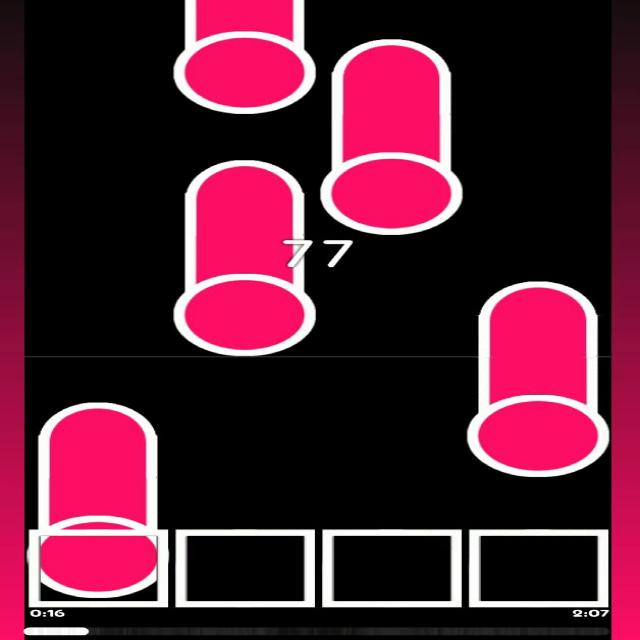end_hold: (41, 392, 160, 444), (476, 274, 606, 320), (181, 152, 306, 198), (331, 30, 454, 76)
start_hold: (168, 259, 324, 359), (26, 494, 168, 602), (321, 129, 466, 234), (466, 376, 609, 480), (170, 16, 318, 114)
